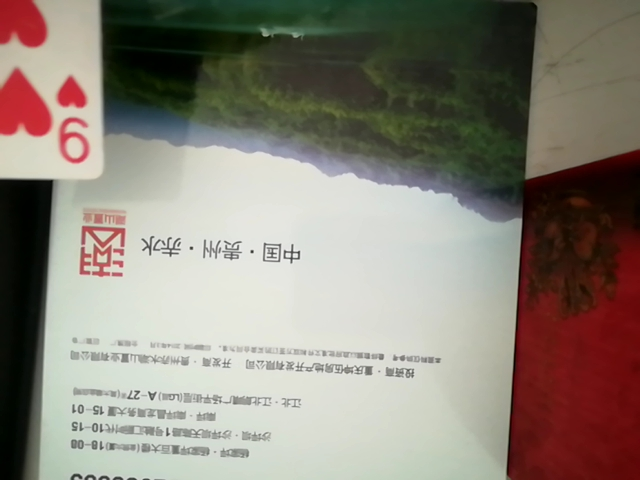hx 9: (0, 0, 112, 233)
